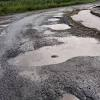Pothole: (6, 37, 100, 63), (33, 11, 77, 42), (40, 73, 89, 100), (68, 4, 100, 31)
